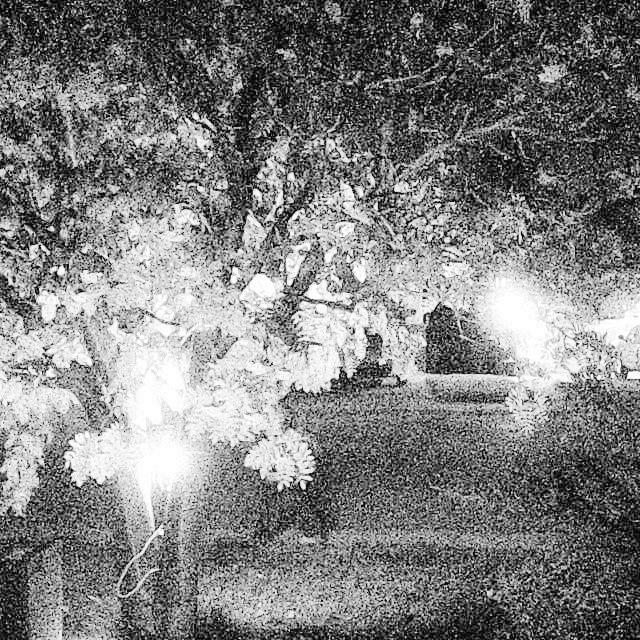Tree: (29, 0, 367, 640)
